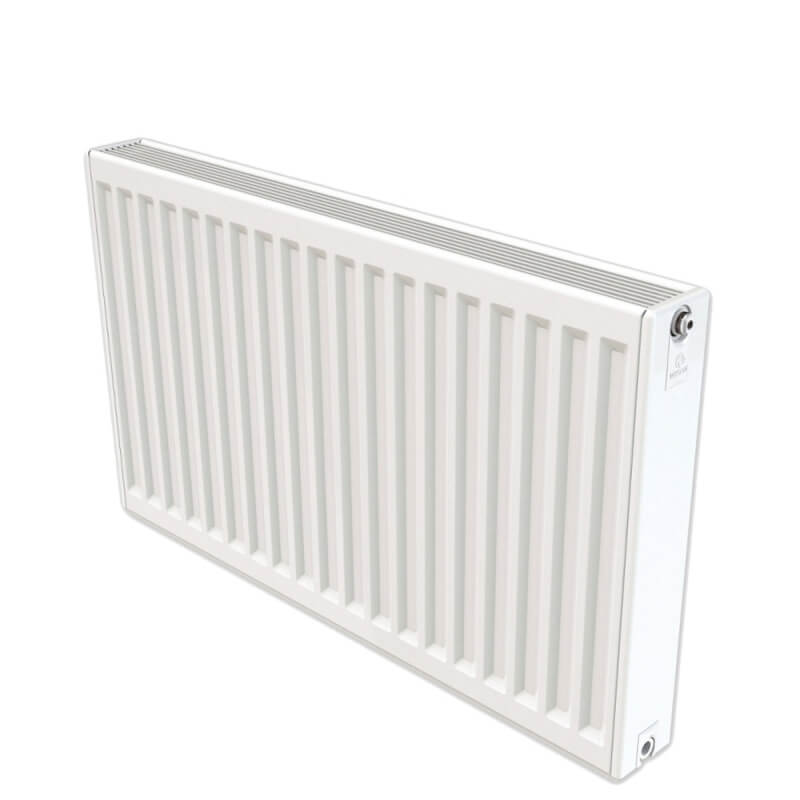Radiator: (81, 129, 718, 790)
